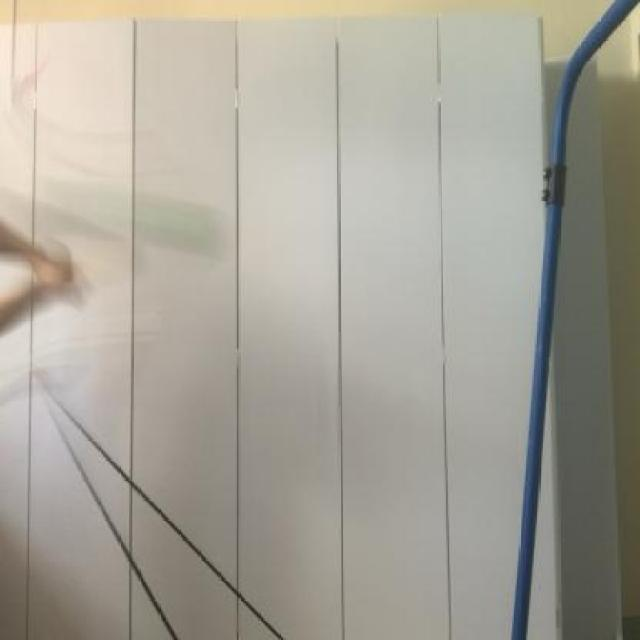baseball: (125, 177, 232, 272)
